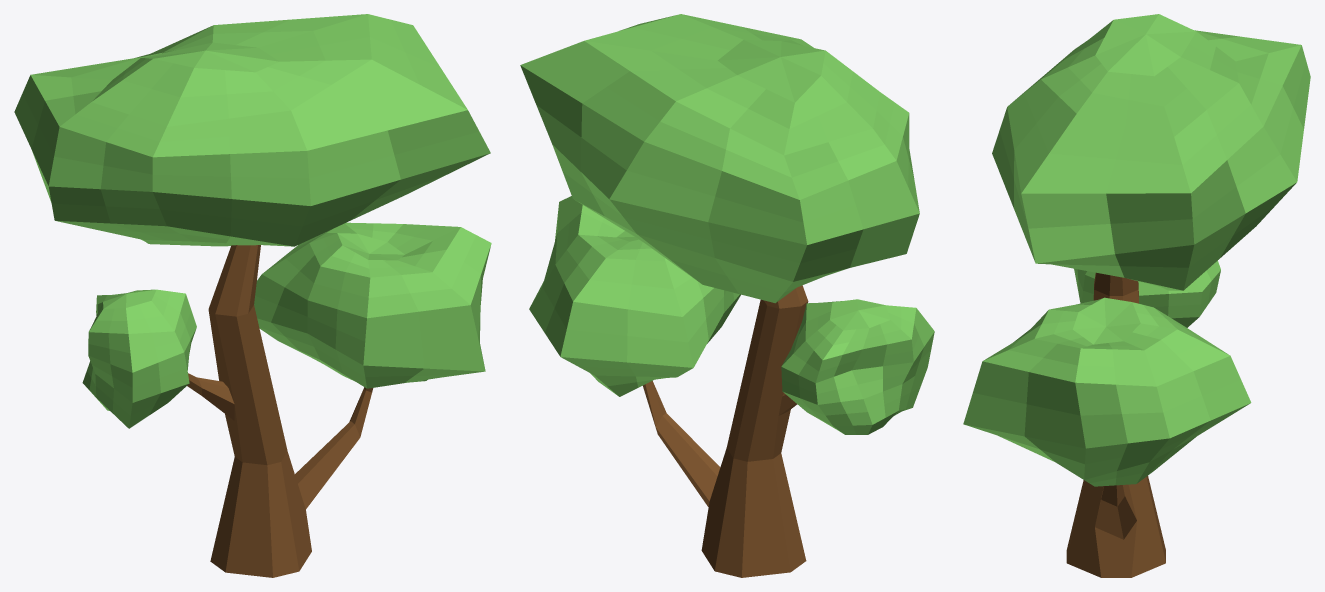
Rendered from Tree 5.fbx.
3 views of the same model, side by side, from view 1: azimuth 30°, elevation 25°; view 2: azimuth 150°, elevation 25°; view 3: azimuth 270°, elevation 25° (orthographic). The views are drawn at different scales.
Visible parts, largest first — view 1: Cube.004; view 2: Cube.004; view 3: Cube.004.
Part boxes in pixels (<box>): Cube.004: <box>14,14,491,577</box>; Cube.004: <box>520,14,934,577</box>; Cube.004: <box>963,14,1310,577</box>.
Bounding box in the file's own units: 753 × 918 × 574.
